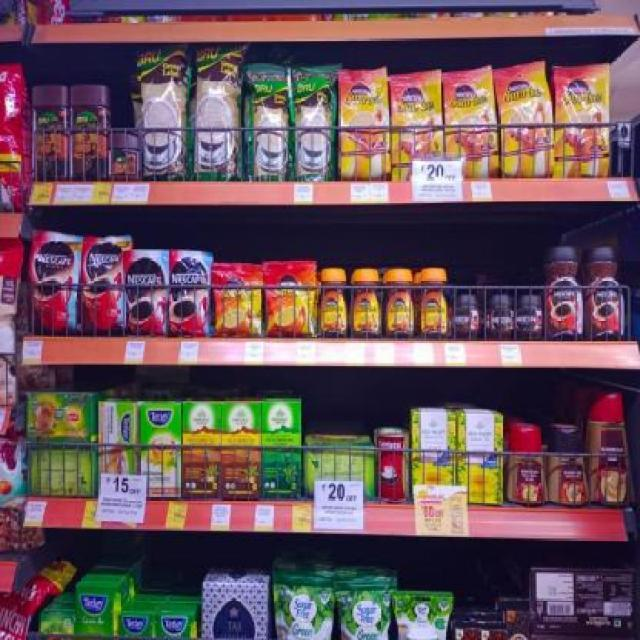Coffee: (498, 66, 554, 177), (556, 69, 609, 178), (445, 73, 499, 179), (391, 73, 443, 179), (340, 70, 391, 178), (29, 234, 78, 335), (81, 239, 127, 333), (586, 245, 626, 341), (546, 245, 585, 339), (265, 262, 313, 336), (126, 252, 168, 335), (170, 253, 208, 337), (216, 267, 262, 334), (351, 268, 380, 336), (419, 269, 448, 333), (319, 269, 347, 335), (385, 271, 413, 335), (515, 294, 543, 335), (484, 294, 512, 335), (450, 295, 476, 334)
